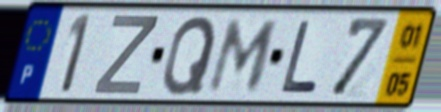1: (59, 12, 94, 97)
7: (331, 14, 393, 100)
L: (278, 18, 322, 96)
M: (204, 17, 283, 96)
Q: (159, 13, 220, 99)
Z: (90, 13, 162, 98)
